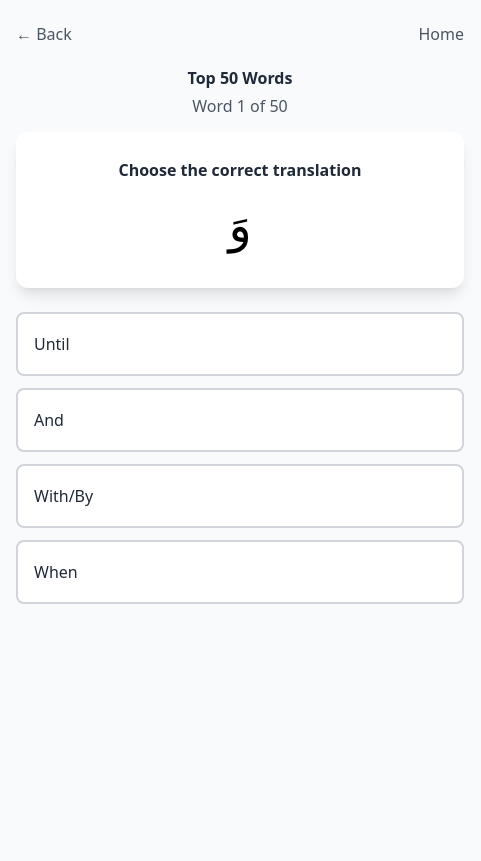
Word Practice Page Integration Tests › Multiple Choice Questions › should show incorrect feedback for wrong answer
Click the button "Until".
click(52, 344)  # box [16,312,464,376]
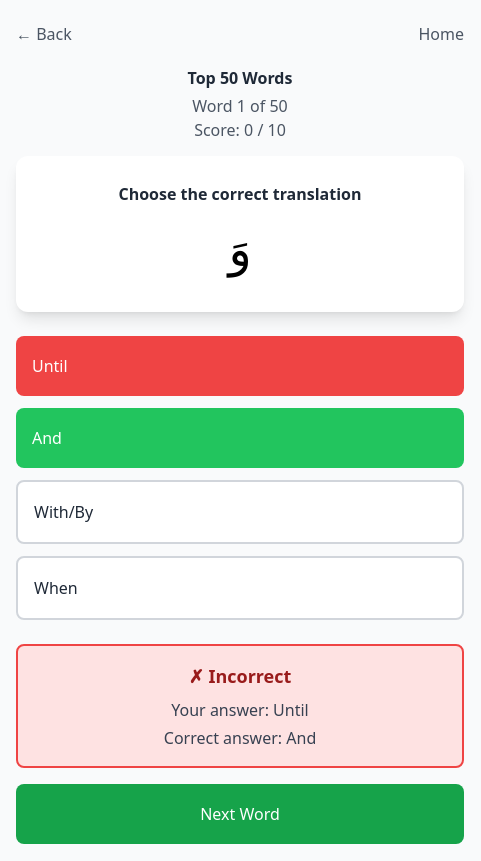
Result: the text "✗ Incorrect" is shown at [189,664,291,688]
